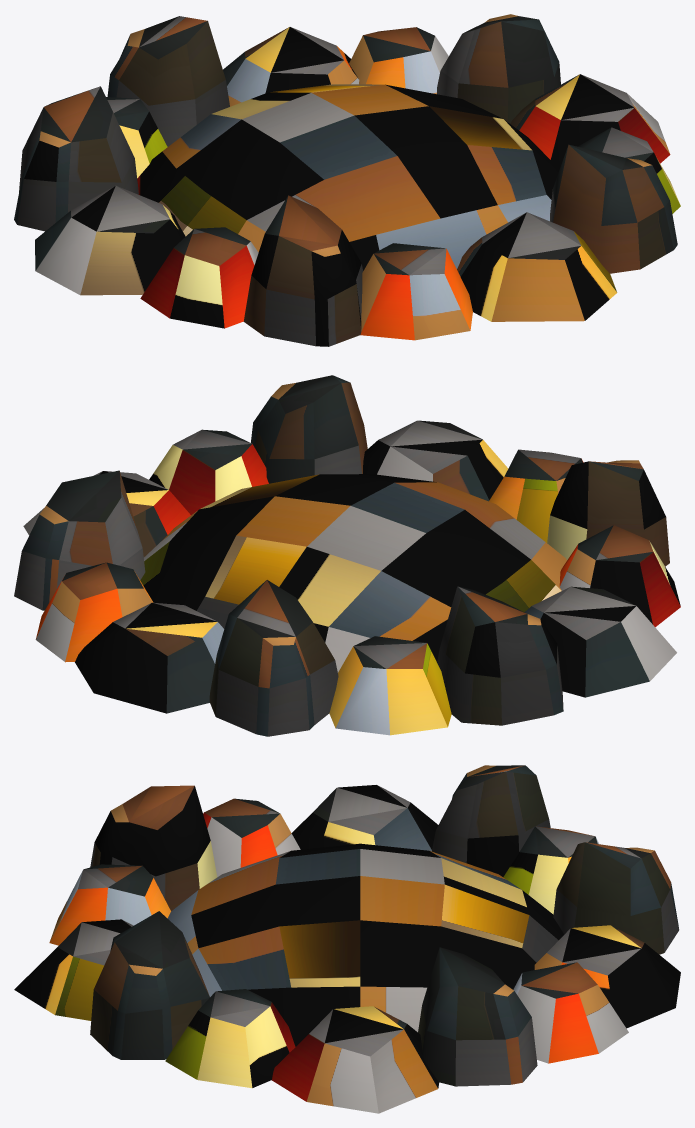
The model's file is m_FirePit01.fbx.
3 renders of one model, top to bottom at view 1: azimuth 30°, elevation 25°; view 2: azimuth 150°, elevation 25°; view 3: azimuth 270°, elevation 25°, orthographic. The views are drawn at different scales.
Parts seen in each view (by area): view 1: m_FirePit01; view 2: m_FirePit01; view 3: m_FirePit01.
Boxes of the visible parts, x1,y1,x2,y2 form: m_FirePit01: (14, 14, 680, 346); m_FirePit01: (14, 375, 680, 736); m_FirePit01: (14, 765, 680, 1113).
Size of the model in its own units: 209 by 34.95 by 199.
